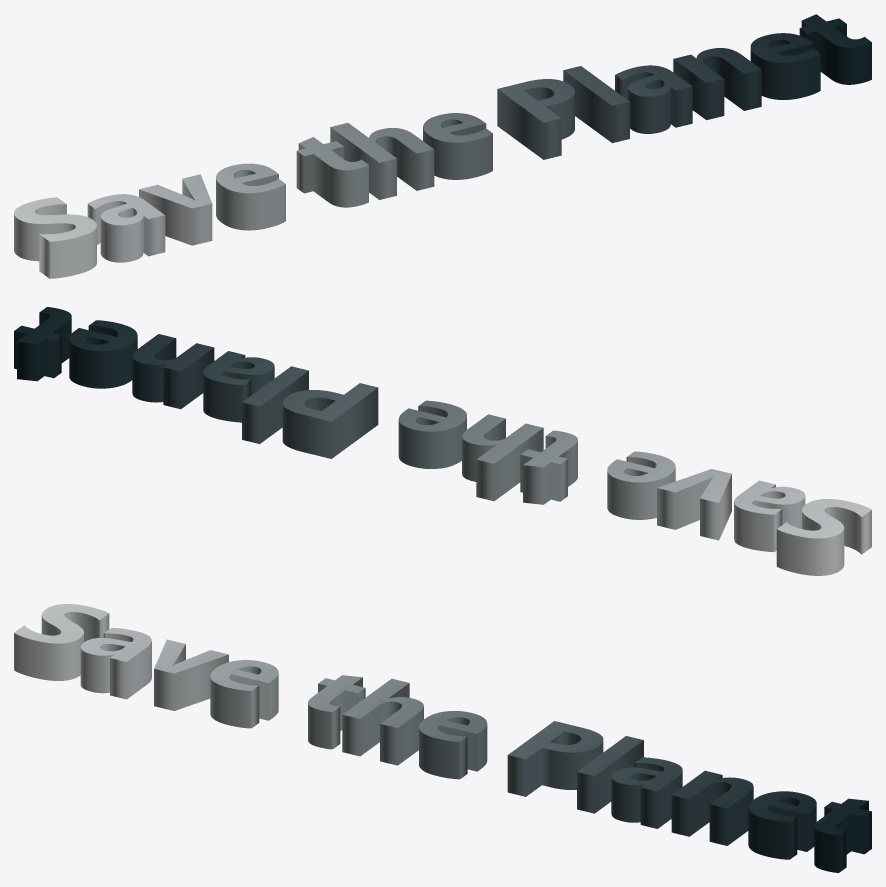
The picture shows the model from 3 angles, top to bottom: view 1: azimuth 30°, elevation 25°; view 2: azimuth 150°, elevation 25°; view 3: azimuth 330°, elevation 25°; orthographic projection.
Parts seen in each view (by area): view 1: 文字.020; view 2: 文字.020; view 3: 文字.020.
Boxes of the visible parts, x1,y1,x2,y2 form: 文字.020: (14,14,871,278); 文字.020: (14,307,871,575); 文字.020: (14,604,871,872).
Bounding box in the file's own units: 6 × 0.26 × 0.6298.
1 material, 1 textured.
